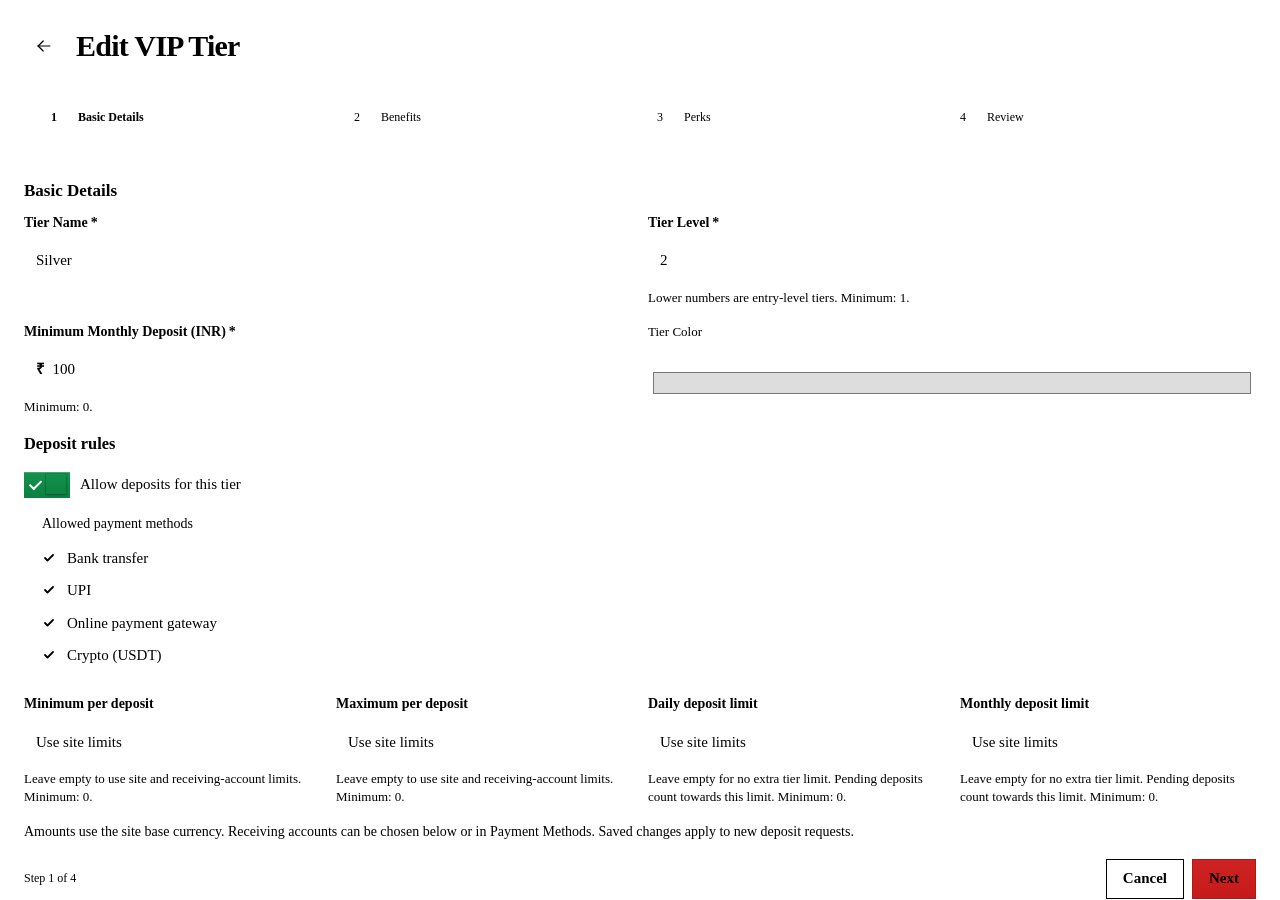
VIP create/edit wizard › edits real deposit methods and limits and includes them in the save
Later steps or results of the test are not shown.
Type "25000" into the field labelled "Daily deposit limit" at (796, 742), box [648,720,944,764]
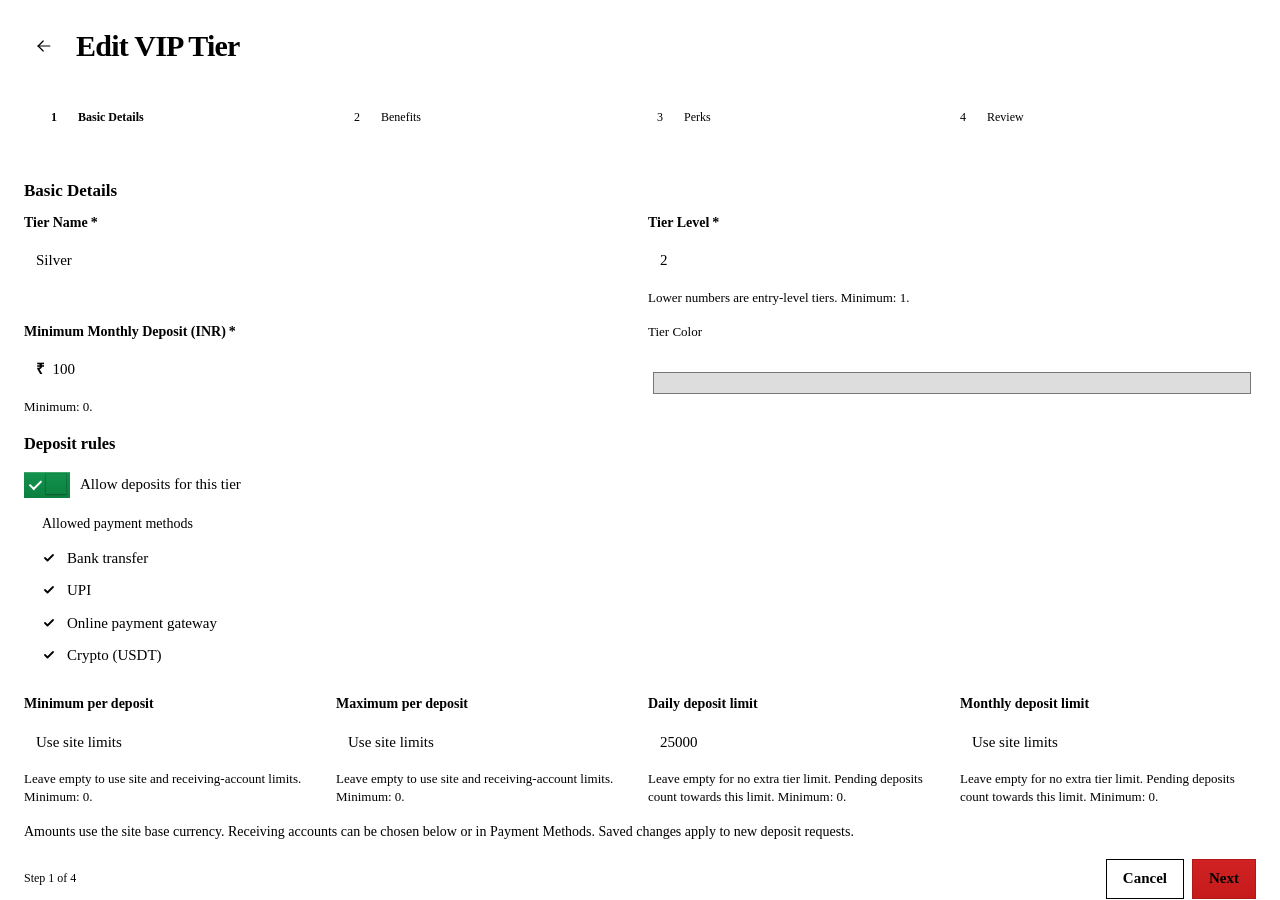
Click the checkbox labelled "UPI" at (49, 590), box [40,581,58,599]
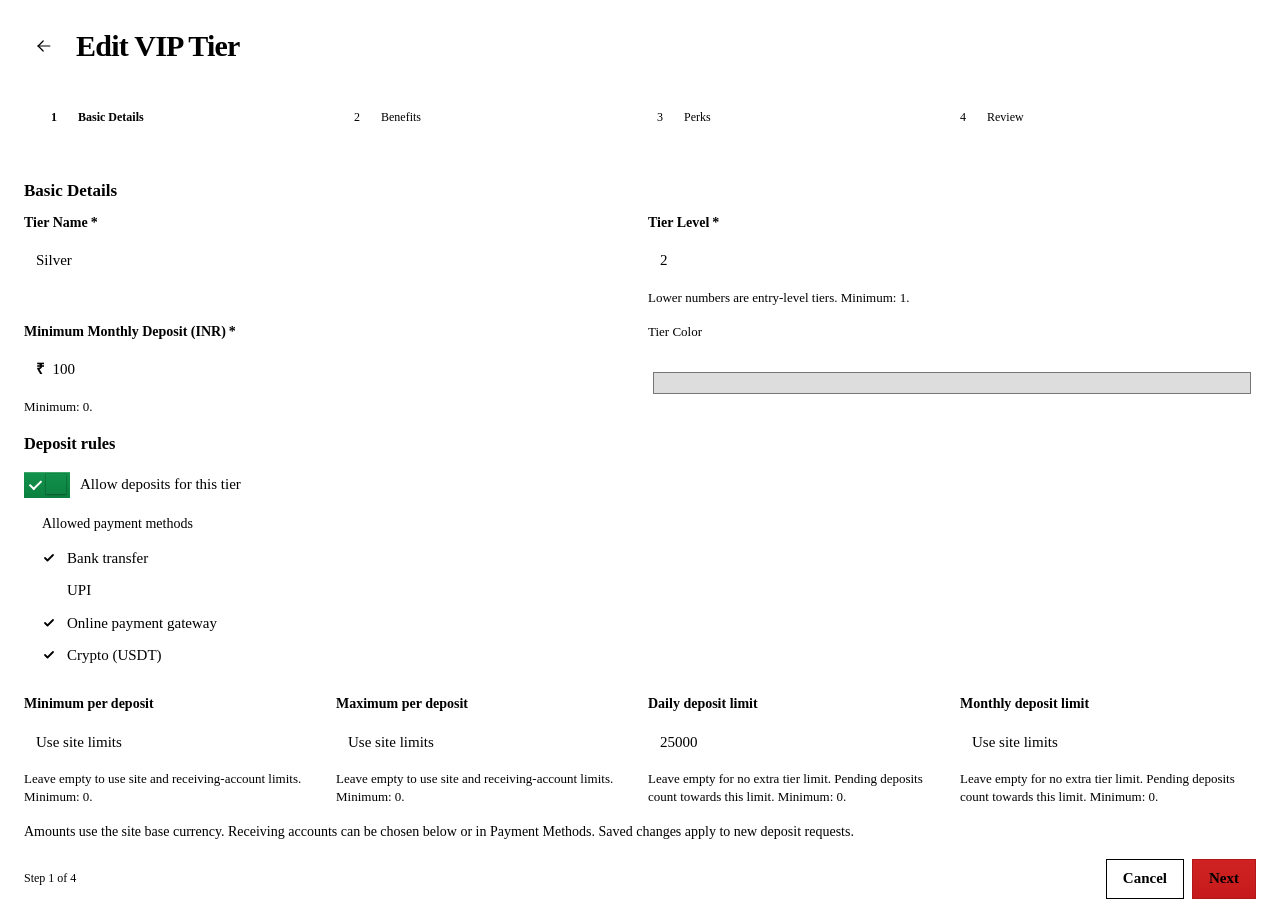
Click the button "Next" at (1224, 879), box [1192,859,1256,899]
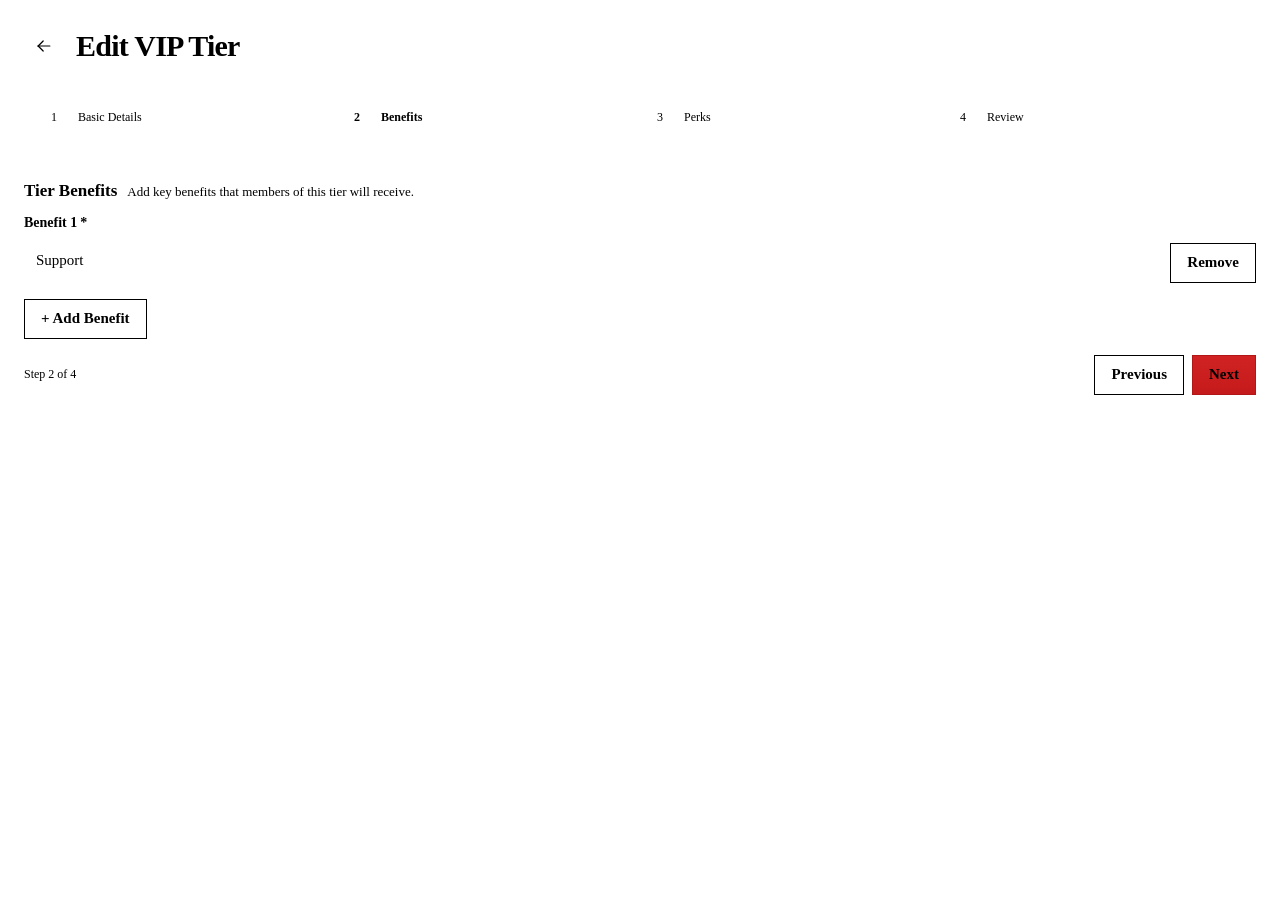
Expected: the heading "Tier Benefits" is shown, [24,181,117,201]
Click the button "Next" at (1224, 375), box [1192,355,1256,395]
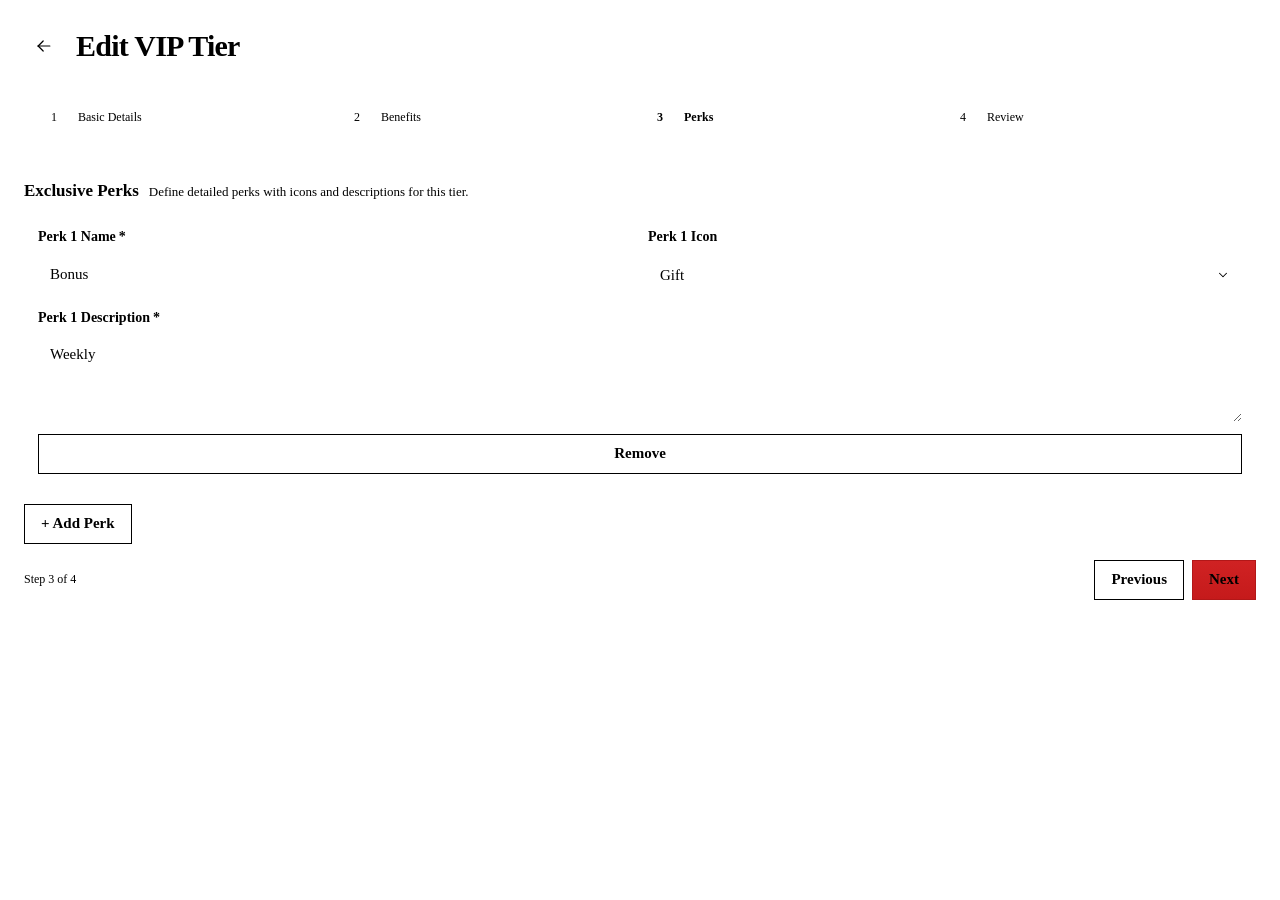
Expected: the heading "Exclusive Perks" is shown, [24,181,139,201]
Click the button "Next" at (1224, 580), box [1192,560,1256,600]
(page scrolled)
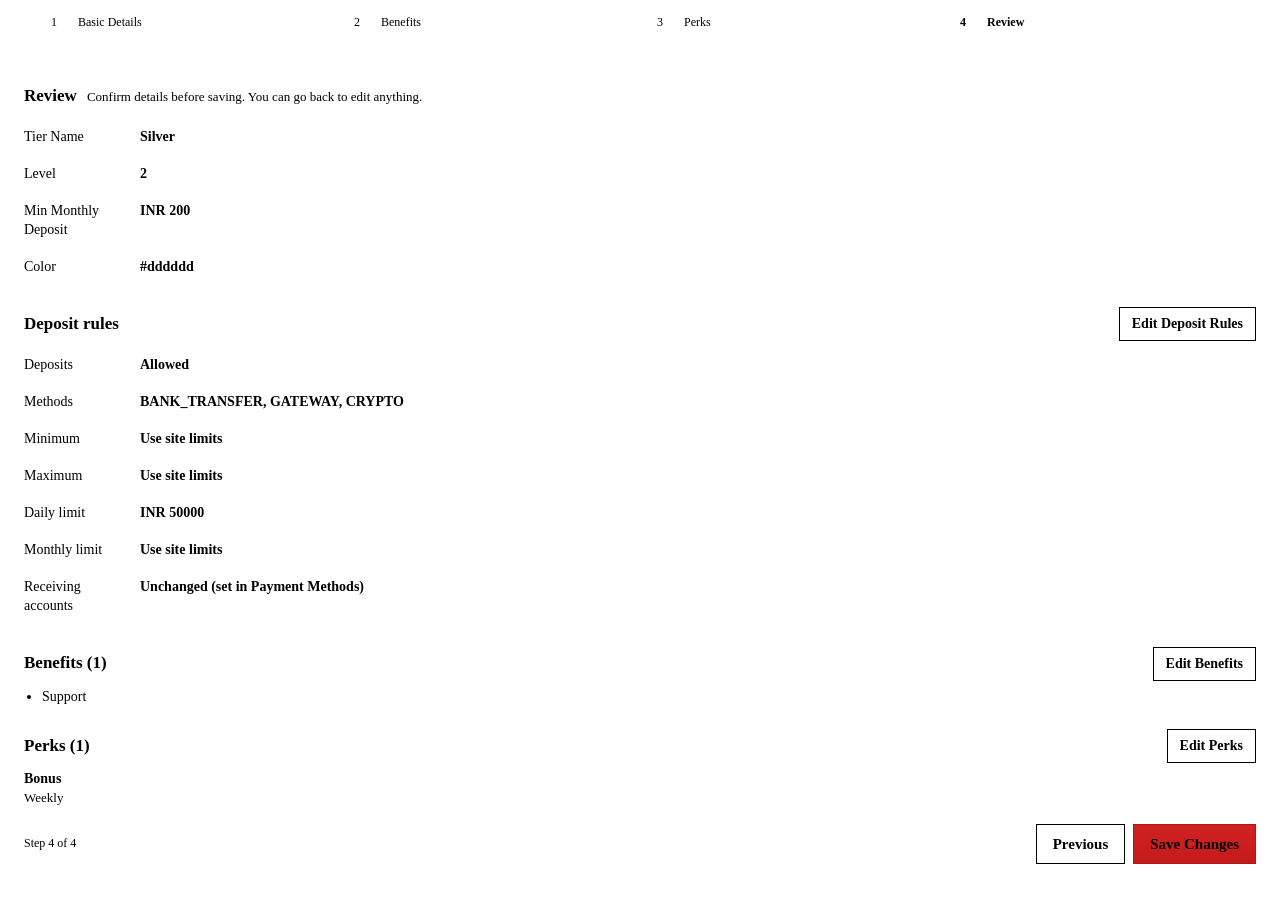
Expected: the heading "Review" is shown, [24,86,77,106]
Expected: the text "INR 50000" is shown, [140,505,204,520]
Expected: the text "INR 200" is shown, [140,203,190,218]
